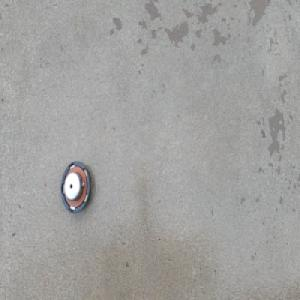FuelCap: (60, 156, 91, 213)
